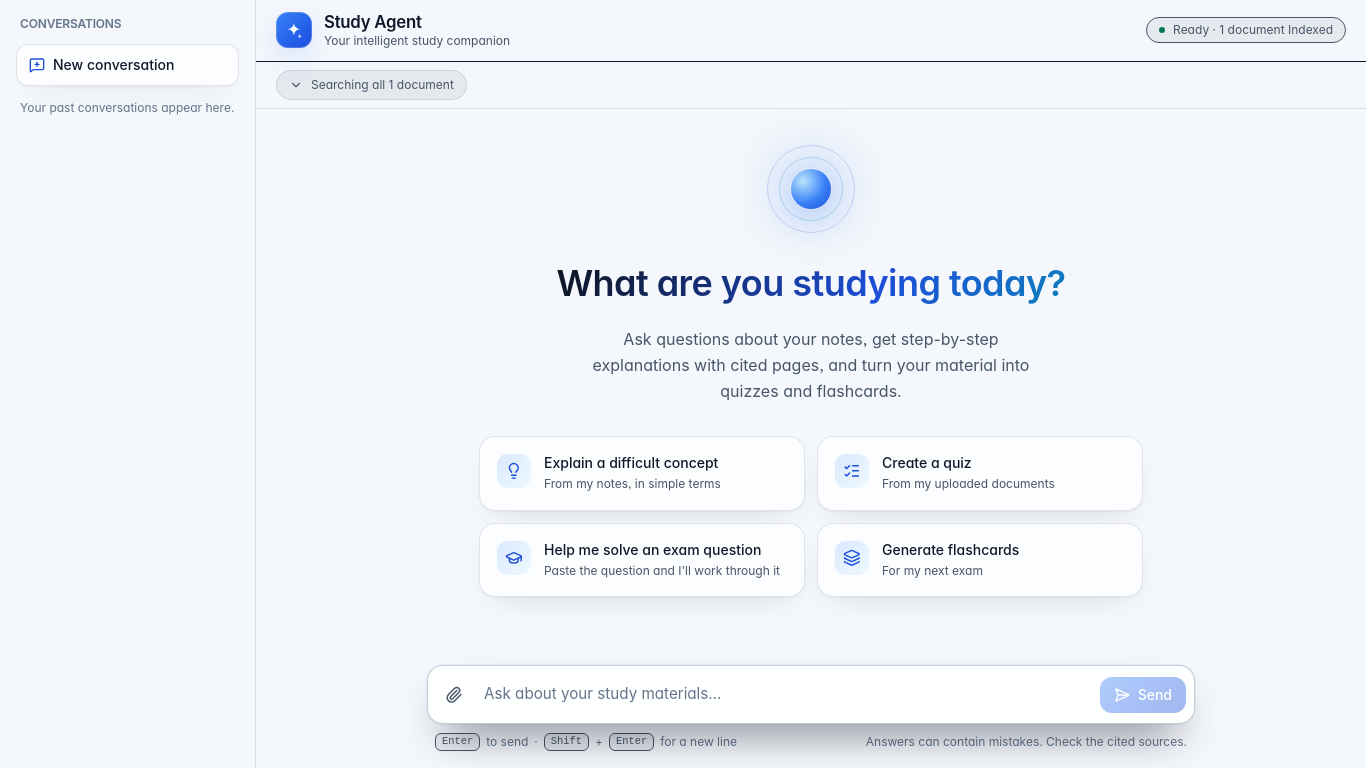
it: StudyChat › shows a sanitized error event and an unreachable backend
This screenshot has width=1366, height=768.
In the text box named "Ask a question": (786, 694) [478,674,1094,715], type "q1"
Then press Enter
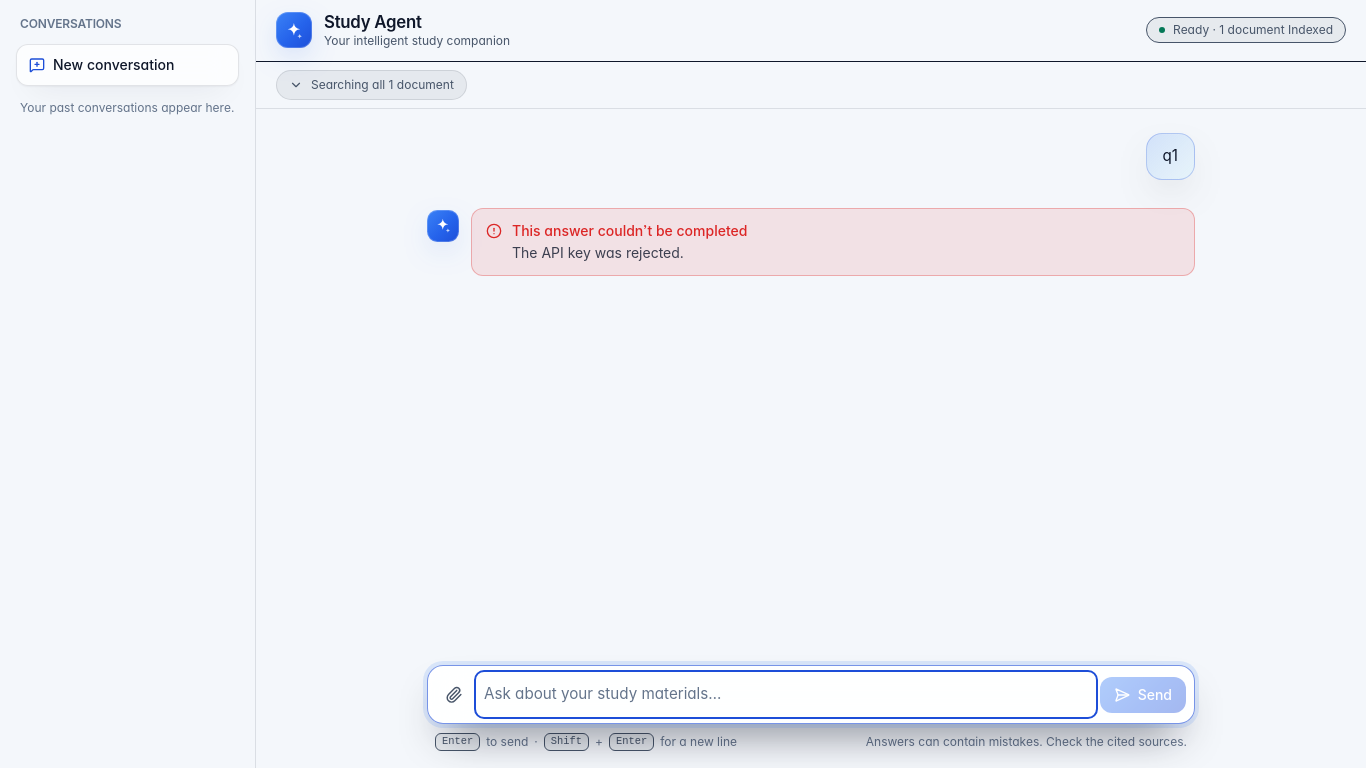
Check: the text "The API key was rejected." is shown, box [512,244,684,261]
In the text box named "Ask a question": (786, 694) [478,674,1094,715], type "q2"
Then press Enter
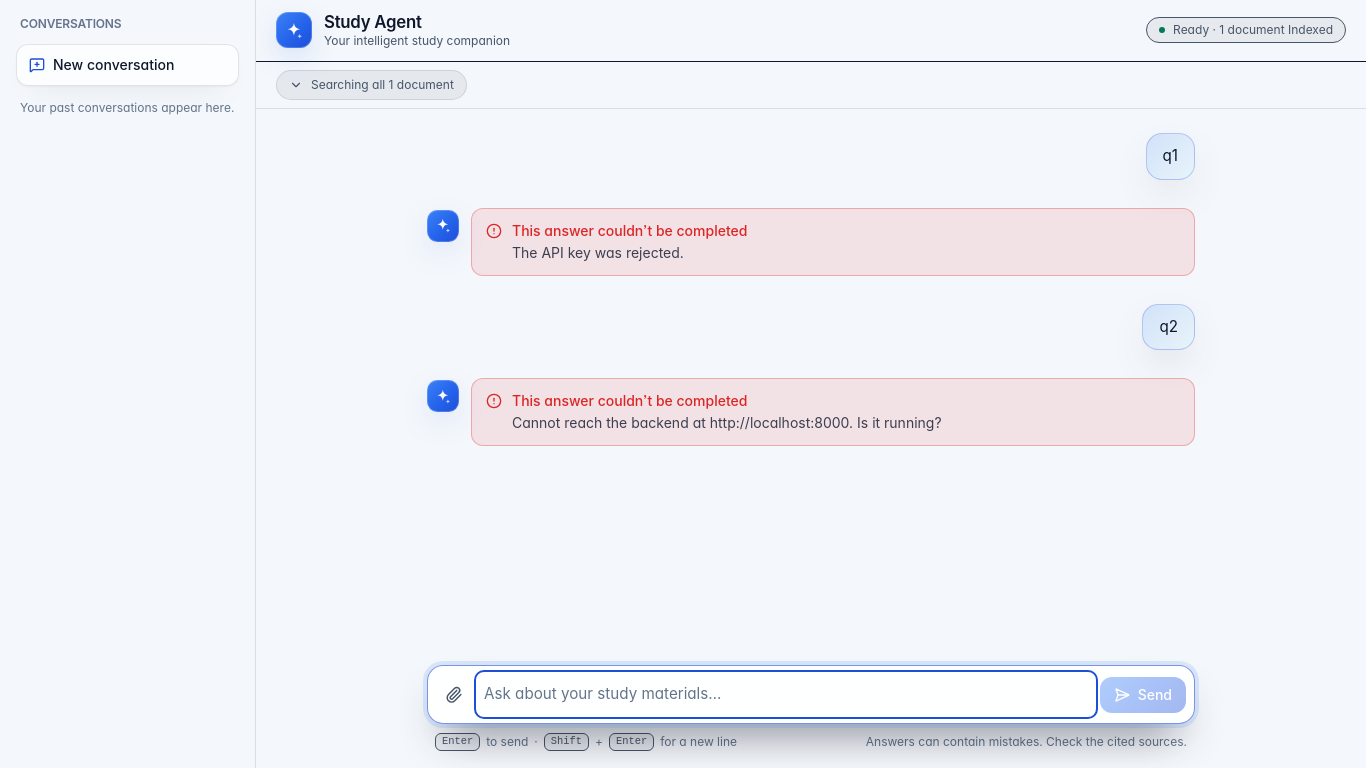
Check: the text "Cannot reach the backend" is shown, box [512,414,942,431]
